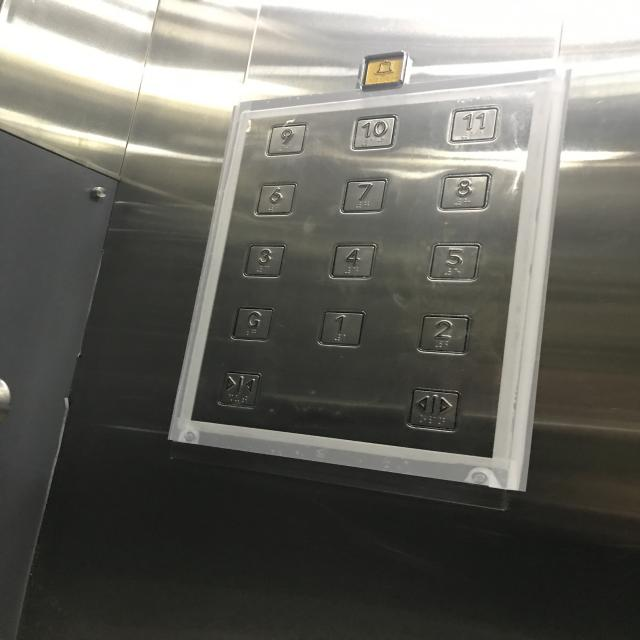1: (315, 307, 367, 347)
10: (348, 113, 399, 151)
11: (446, 103, 501, 144)
2: (416, 312, 471, 354)
3: (240, 242, 287, 278)
4: (327, 242, 378, 280)
5: (425, 241, 481, 283)
6: (252, 182, 298, 216)
7: (338, 177, 388, 215)
8: (434, 171, 493, 212)
9: (262, 121, 308, 157)
G: (229, 305, 276, 343)
alarm: (359, 50, 409, 90)
close: (214, 368, 262, 409)
open: (405, 386, 461, 434)
